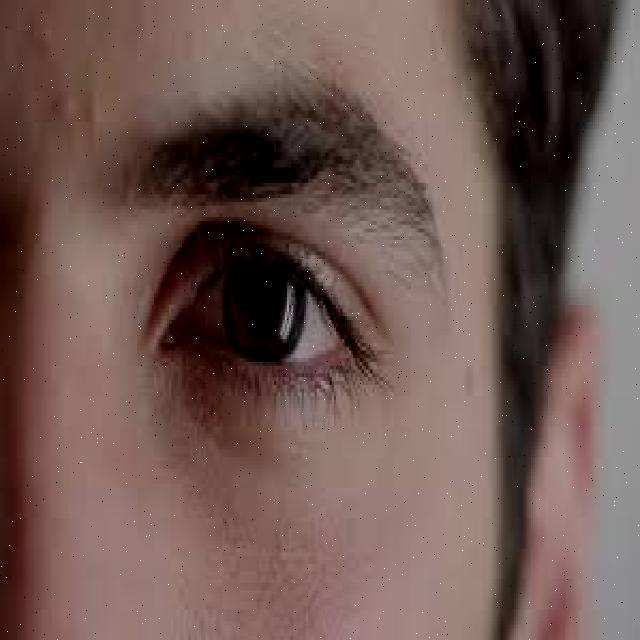Normal: (138, 213, 422, 448)
